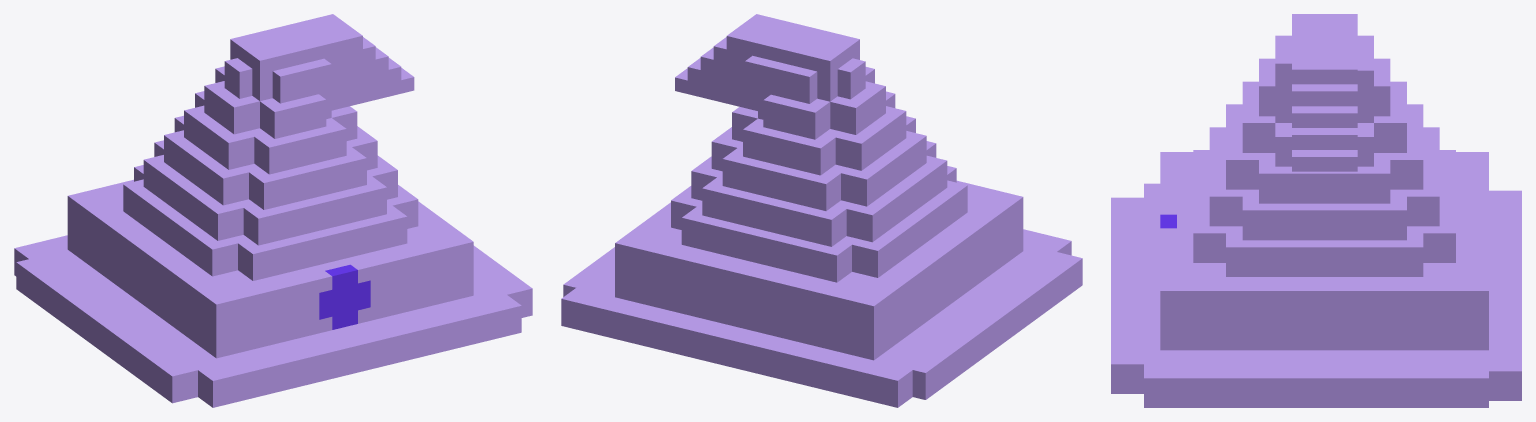
3 views of the same model, side by side, from view 1: azimuth 30°, elevation 25°; view 2: azimuth 150°, elevation 25°; view 3: azimuth 270°, elevation 25° (orthographic). The views are drawn at different scales.
Visible parts, largest first — view 1: 60; view 2: 60; view 3: 60.
Part boxes in pixels (x1=…): 60: x1=14, y1=14, x2=532, y2=407; 60: x1=561, y1=14, x2=1082, y2=407; 60: x1=1111, y1=14, x2=1521, y2=407.
Bounding box in the file's own units: 2.8 × 1.9 × 2.5.
1 material, 1 textured.
